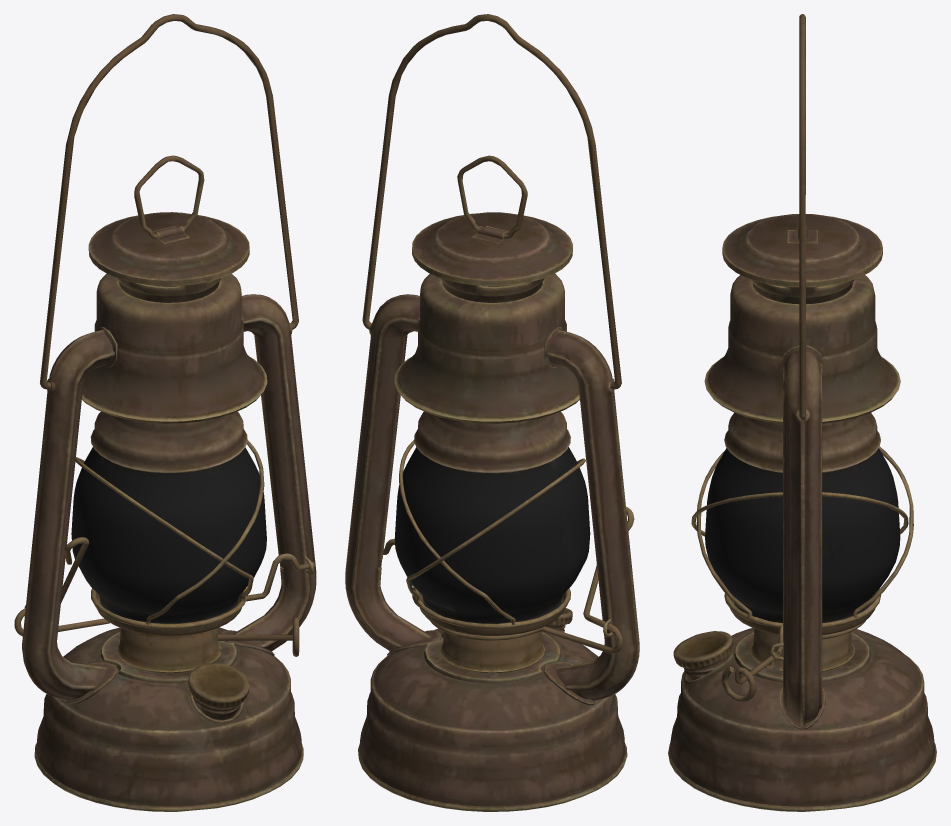
The model's file is lantern.glb.
3 views of the same model, side by side, from view 1: azimuth 30°, elevation 25°; view 2: azimuth 150°, elevation 25°; view 3: azimuth 270°, elevation 25° (orthographic).
Visible parts, largest first — view 1: Lantern_01, Lantern_01_glass; view 2: Lantern_01, Lantern_01_glass; view 3: Lantern_01, Lantern_01_glass.
Part boxes in pixels (box(x1,y1,x2,y2)): Lantern_01: box(14, 14, 316, 811); Lantern_01_glass: box(71, 447, 266, 623); Lantern_01: box(345, 14, 639, 811); Lantern_01_glass: box(394, 447, 590, 623); Lantern_01: box(668, 14, 936, 811); Lantern_01_glass: box(705, 448, 900, 622).
Bounding box in the file's own units: 0.1221 × 0.2942 × 0.0971.
Materials: 2 (2 with a texture image).
